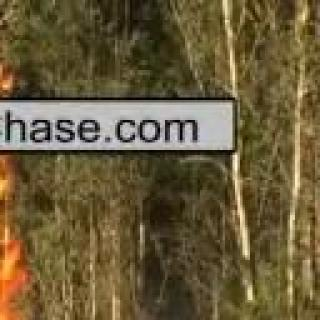fire: (0, 154, 48, 320), (0, 16, 7, 97)
